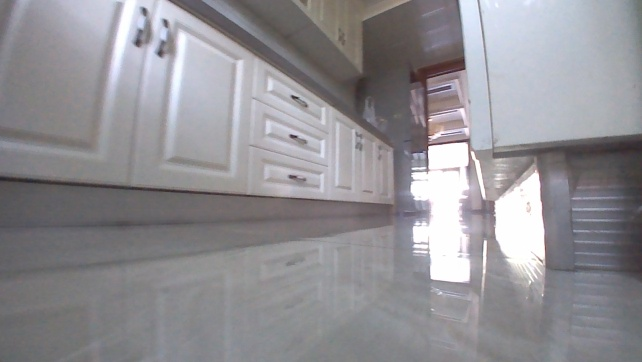cupboard: (0, 0, 399, 217)
cupboard1: (451, 0, 641, 276)
